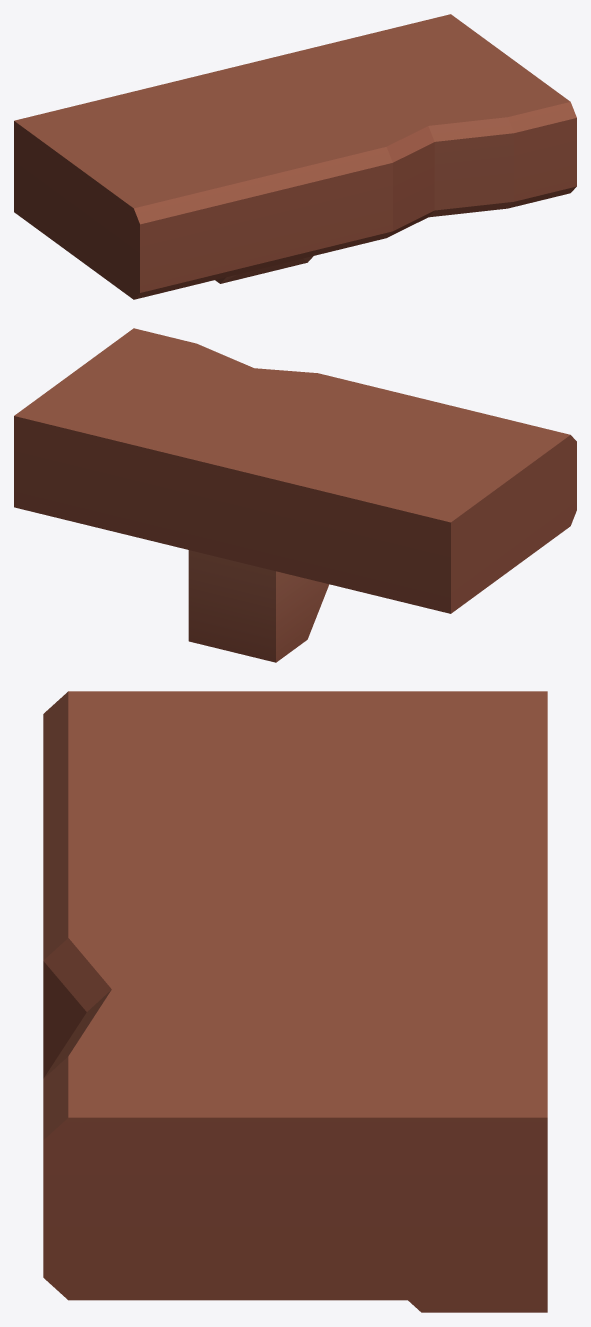
The model's file is shelf_small.gltf.
3 renders of one model, top to bottom at view 1: azimuth 30°, elevation 25°; view 2: azimuth 150°, elevation 25°; view 3: azimuth 270°, elevation 25°, orthographic. The views are drawn at different scales.
Visible parts, largest first — view 1: shelf_small; view 2: shelf_small; view 3: shelf_small.
Boxes of the visible parts, box(x1,y1,x2,y2) form: shelf_small: box(14, 14, 576, 299); shelf_small: box(14, 328, 576, 662); shelf_small: box(43, 691, 547, 1312).
Size of the model in its own units: 1 by 0.4 by 0.5.
1 material, 1 textured.
